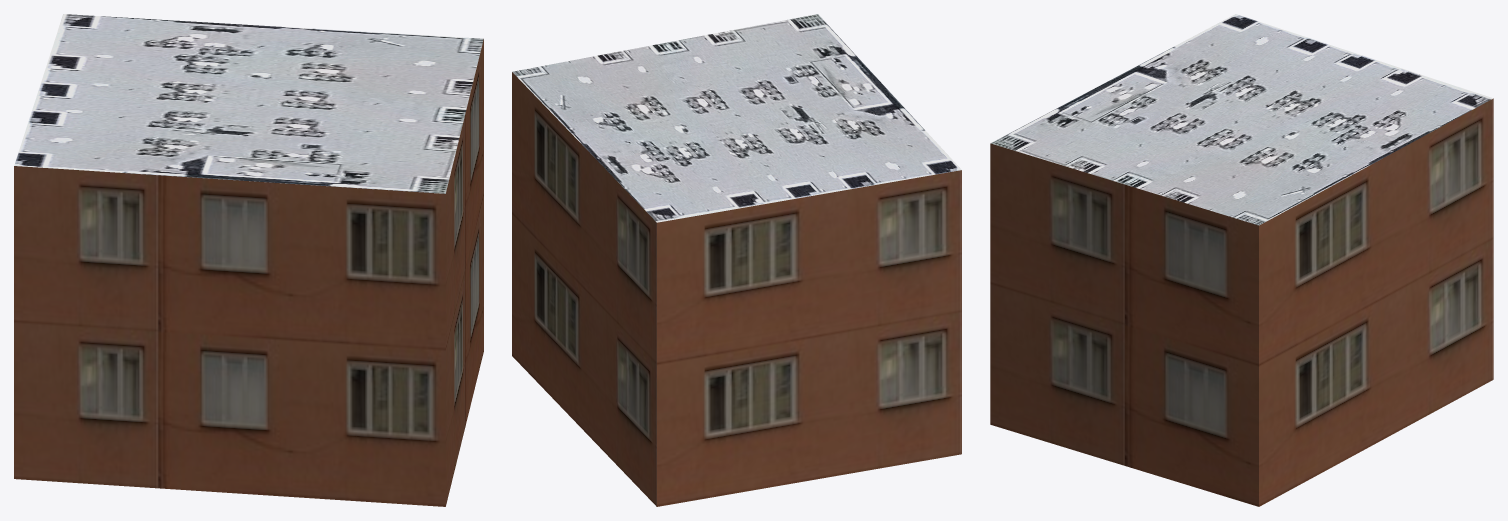
File: ResTex__1356.fbx
3 renders of one model, left to right at view 1: azimuth 30°, elevation 25°; view 2: azimuth 150°, elevation 25°; view 3: azimuth 270°, elevation 25°, orthographic. The views are drawn at different scales.
Parts seen in each view (by area): view 1: CityEngineMaterial_20_m, CityEngineMaterial_2_m; view 2: CityEngineMaterial_20_m, CityEngineMaterial_2_m; view 3: CityEngineMaterial_20_m, CityEngineMaterial_2_m.
Part boxes in pixels (x1,y1,x2,y2): CityEngineMaterial_20_m: (14,39,483,506); CityEngineMaterial_2_m: (14,14,483,193); CityEngineMaterial_20_m: (512,72,961,506); CityEngineMaterial_2_m: (512,14,961,222); CityEngineMaterial_20_m: (990,98,1493,506); CityEngineMaterial_2_m: (991,14,1492,225).
Size of the model in its own units: 9.68 by 6 by 9.73.
2 materials, 2 textured.
